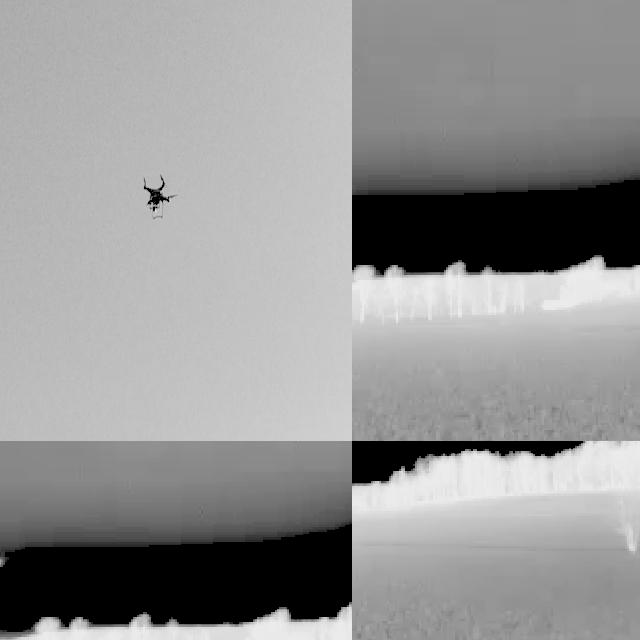1: (0, 548, 10, 580)
drone: (140, 169, 174, 221)
